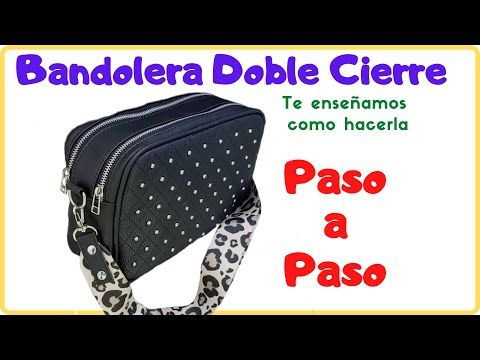cuero: (64, 92, 266, 283)
